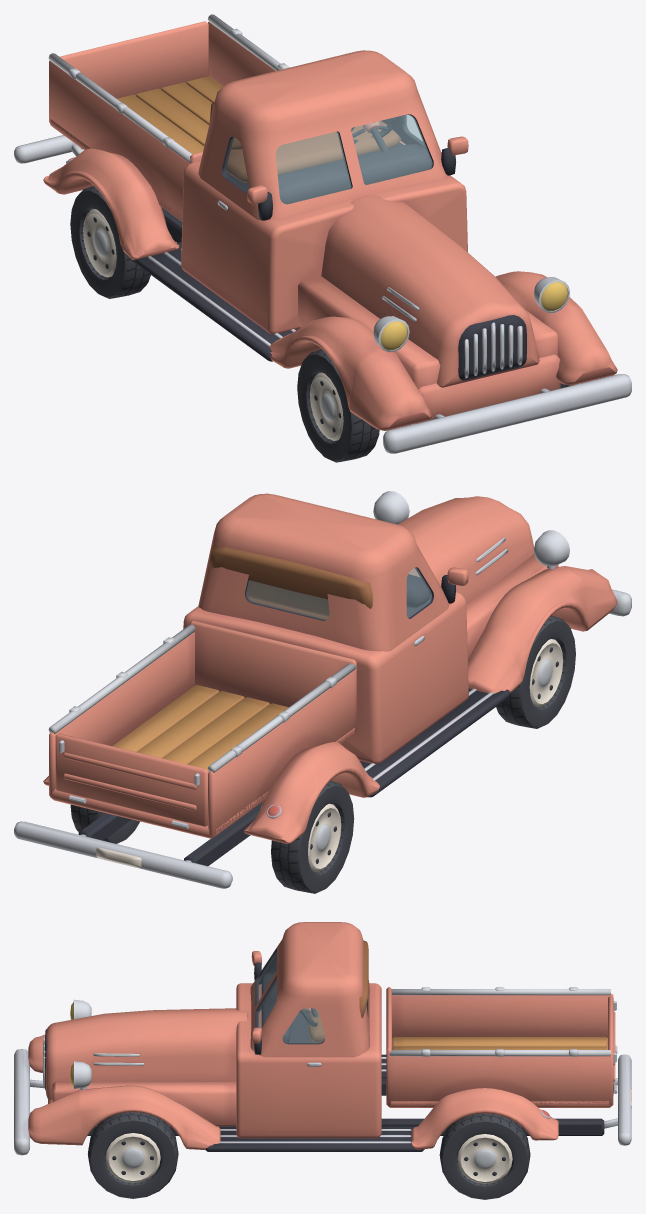
Rendered from vintage-truck.glb.
3 renders of one model, top to bottom at view 1: azimuth 30°, elevation 25°; view 2: azimuth 150°, elevation 25°; view 3: azimuth 270°, elevation 25°, orthographic. The views are drawn at different scales.
Parts seen in each view (by area): view 1: vintage-truck_body, vintage-truck_windows, vintage-truck_tailgate, vintage-truck_wheel_fr, vintage-truck_wheel_rr; view 2: vintage-truck_body, vintage-truck_tailgate, vintage-truck_wheel_rr, vintage-truck_wheel_fr, vintage-truck_windows, vintage-truck_wheel_rl; view 3: vintage-truck_body, vintage-truck_wheel_fl, vintage-truck_wheel_rl, vintage-truck_windows, vintage-truck_tailgate.
Boxes of the visible parts, left/top/right/bottom form: vintage-truck_body: left=14, top=14, right=631, bottom=453; vintage-truck_windows: left=224, top=114, right=432, bottom=203; vintage-truck_tailgate: left=59, top=21, right=208, bottom=98; vintage-truck_wheel_fr: left=297, top=349, right=379, bottom=462; vintage-truck_wheel_rr: left=70, top=186, right=150, bottom=298; vintage-truck_body: left=14, top=491, right=631, bottom=888; vintage-truck_tailgate: left=55, top=733, right=208, bottom=828; vintage-truck_wheel_rr: left=271, top=781, right=354, bottom=893; vintage-truck_wheel_fr: left=496, top=615, right=575, bottom=728; vintage-truck_windows: left=246, top=567, right=431, bottom=619; vintage-truck_wheel_rl: left=70, top=804, right=139, bottom=843; vintage-truck_body: left=14, top=922, right=631, bottom=1155; vintage-truck_wheel_fl: left=88, top=1112, right=178, bottom=1198; vintage-truck_wheel_rl: left=439, top=1113, right=530, bottom=1199; vintage-truck_windows: left=257, top=952, right=324, bottom=1042; vintage-truck_tailgate: left=608, top=996, right=617, bottom=1094.
Size of the model in its own units: 1.98 by 2.02 by 5.44.
19 materials, 6 textured.
